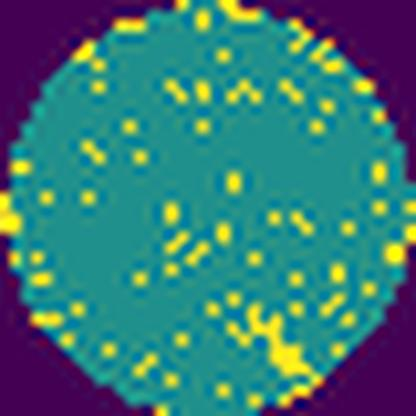Scratch: (224, 302, 317, 381)
